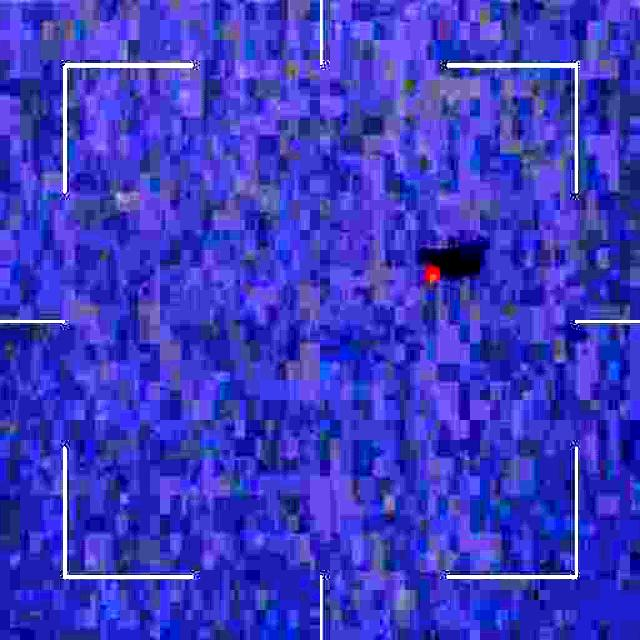bird: (420, 249, 449, 292)
